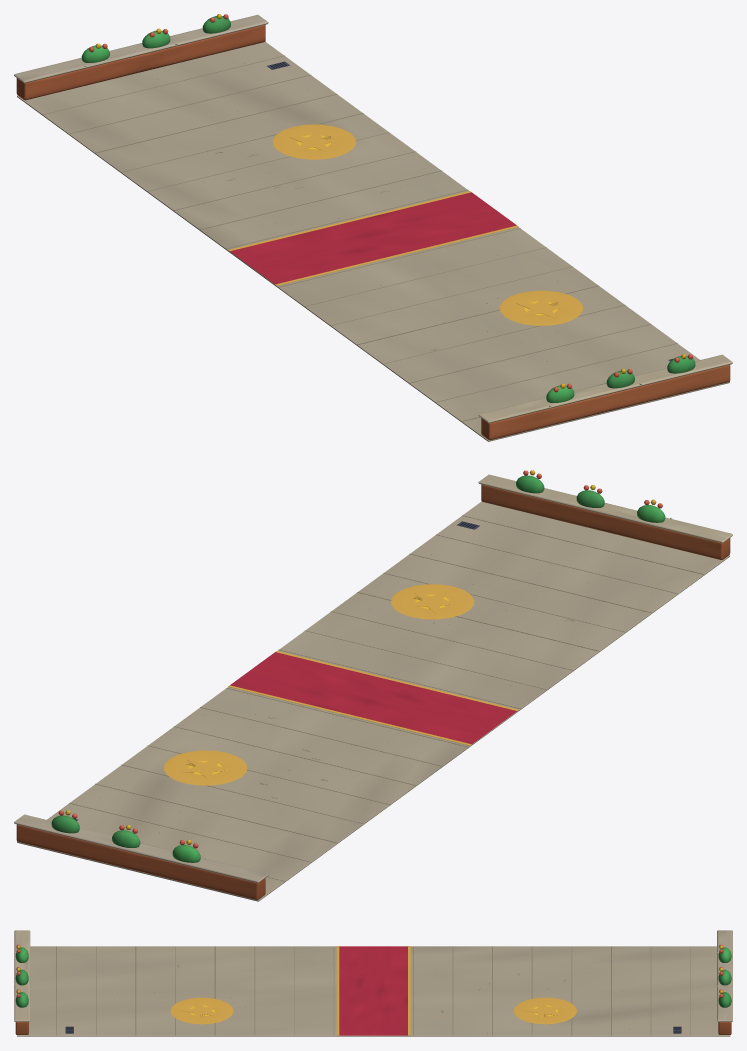
Rendered from SM_City_CinemaPlaza.fbx.
3 views of the same model, one above another, from view 1: azimuth 30°, elevation 25°; view 2: azimuth 150°, elevation 25°; view 3: azimuth 270°, elevation 25° (orthographic). The views are drawn at different scales.
Parts seen in each view (by area): view 1: SM_City_CinemaPlaza; view 2: SM_City_CinemaPlaza; view 3: SM_City_CinemaPlaza.
Part boxes in pixels (x1,y1,x2,y2): SM_City_CinemaPlaza: [14, 14, 732, 441]; SM_City_CinemaPlaza: [14, 470, 732, 901]; SM_City_CinemaPlaza: [14, 930, 732, 1036].
Bounding box in the file's own units: 810 × 124 × 2721.
